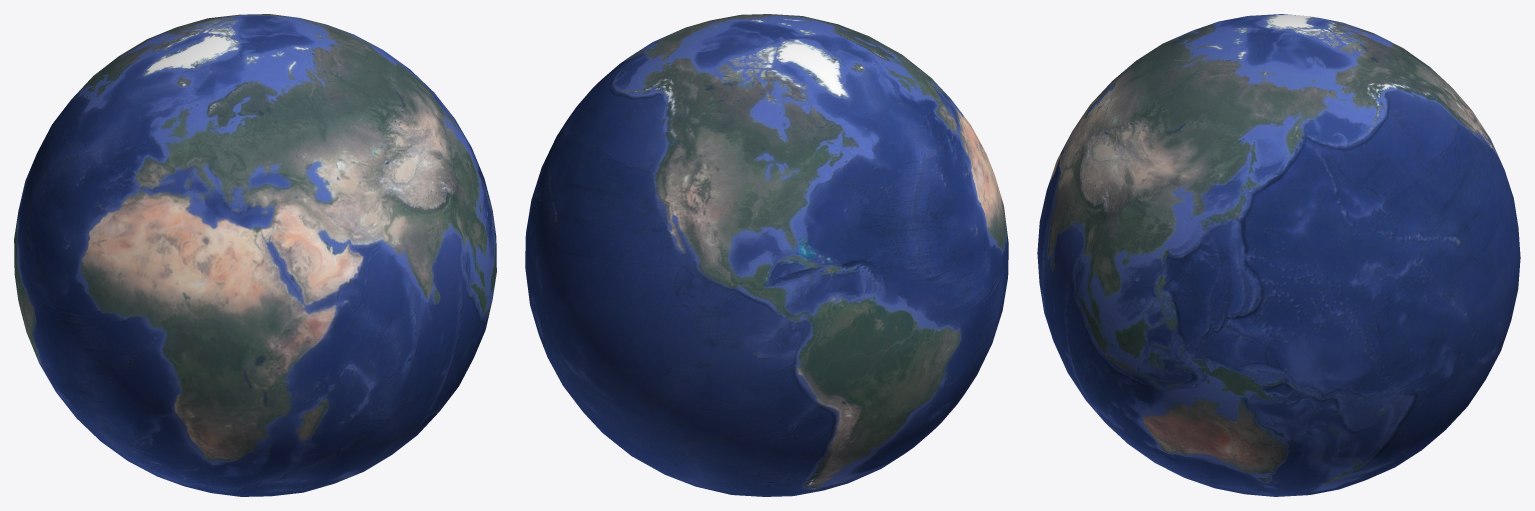
File: earth.glb
3 renders of one model, left to right at view 1: azimuth 30°, elevation 25°; view 2: azimuth 150°, elevation 25°; view 3: azimuth 270°, elevation 25°, orthographic.
Visible parts, largest first — view 1: Object_2; view 2: Object_2; view 3: Object_2.
Part boxes in pixels (x1,y1,x2,y2): Object_2: (14,14,496,496); Object_2: (525,14,1008,496); Object_2: (1037,14,1520,496).
Size of the model in its own units: 832 by 831 by 832.
Materials: 1 (1 with a texture image).
